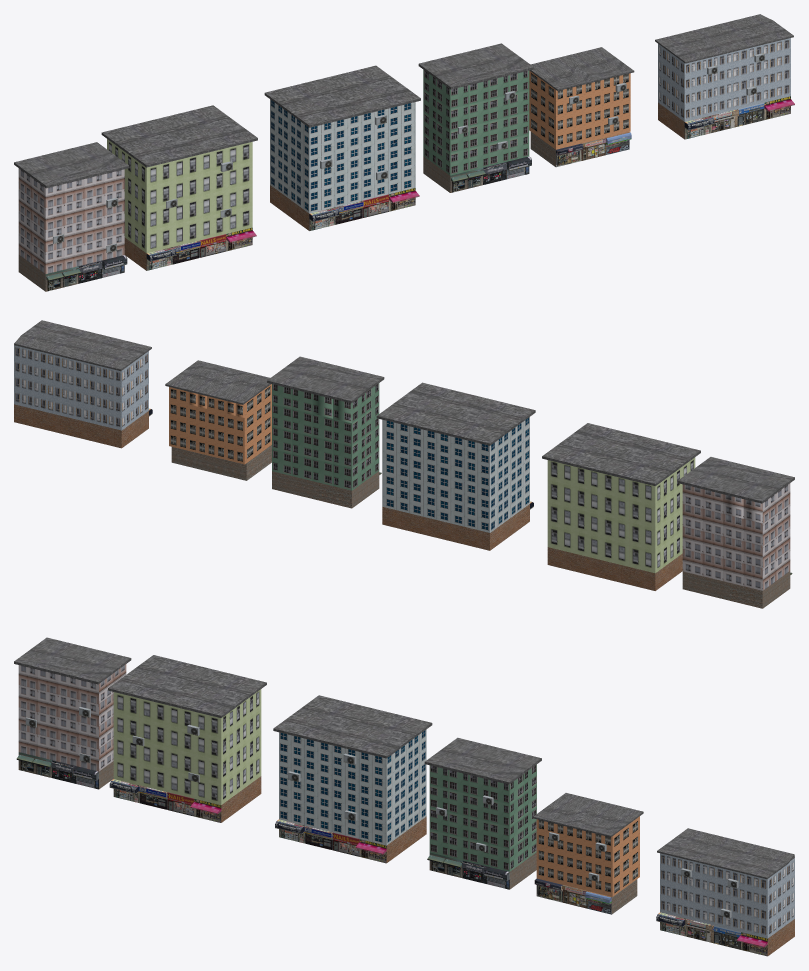
File: builds.fbx
The picture shows the model from 3 angles, top to bottom: view 1: azimuth 30°, elevation 25°; view 2: azimuth 150°, elevation 25°; view 3: azimuth 330°, elevation 25°; orthographic projection.
Visible parts, largest first — view 1: build4, build1, build14, build3, build, build12; view 2: build4, build1, build14, build3, build, build12; view 3: build1, build4, build3, build, build14, build12.
Boxes of the visible parts, x1,y1,x2,y2 form: build4: (264,65,420,230); build1: (101,105,257,270); build14: (14,142,129,291); build3: (418,43,533,192); build: (655,14,794,139); build12: (529,47,634,167); build4: (376,382,535,550); build1: (542,423,700,590); build14: (677,457,794,608); build3: (267,356,384,508); build: (14,320,152,448); build12: (165,360,271,480); build1: (108,655,266,822); build4: (273,695,432,863); build3: (424,737,541,889); build: (656,828,794,956); build14: (14,637,131,789); build12: (533,793,643,914).
Size of the model in its own units: 23138 by 3216 by 2489.
Materials: 1 (1 with a texture image).
